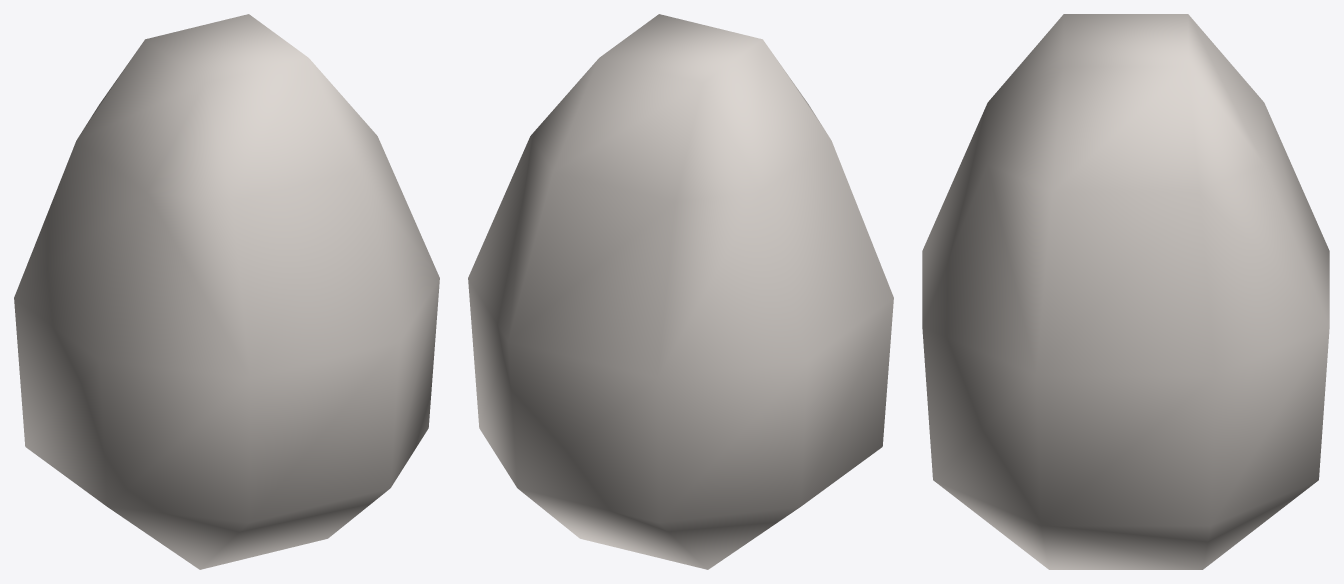
Rendered from 0058_Chicken_Egg.glb.
3 views of the same model, side by side, from view 1: azimuth 30°, elevation 25°; view 2: azimuth 150°, elevation 25°; view 3: azimuth 270°, elevation 25° (orthographic). The views are drawn at different scales.
Visible parts, largest first — view 1: part_0; view 2: part_0; view 3: part_0.
Part boxes in pixels (x1,y1,x2,y2): part_0: (14,14,439,569); part_0: (468,14,893,569); part_0: (922,14,1329,569).
Bounding box in the file's own units: 0.052 × 0.07 × 0.052.
Materials: 1 (1 with a texture image).
